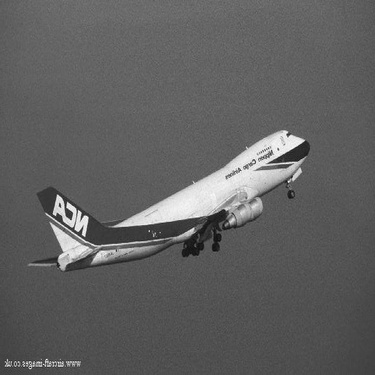airplane: (22, 112, 319, 287)
